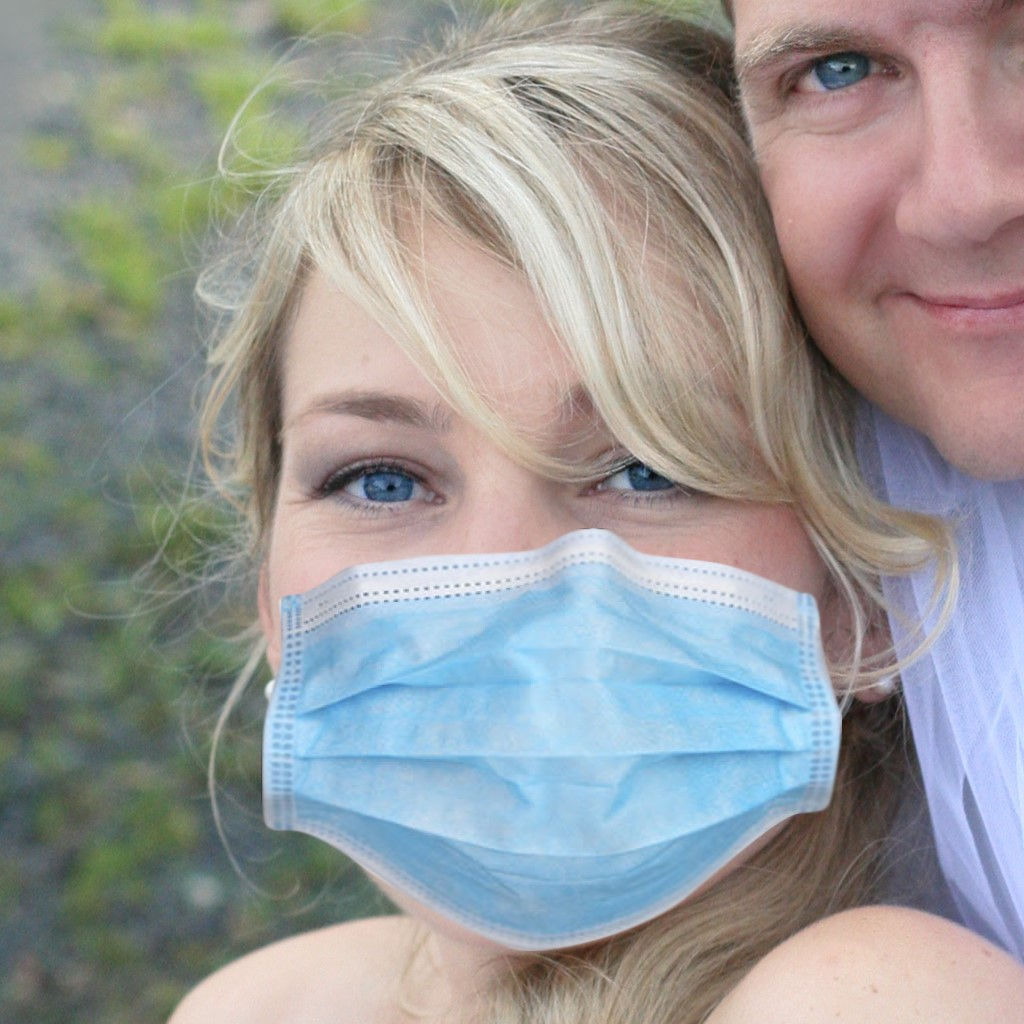con_mascara: (236, 180, 856, 949)
